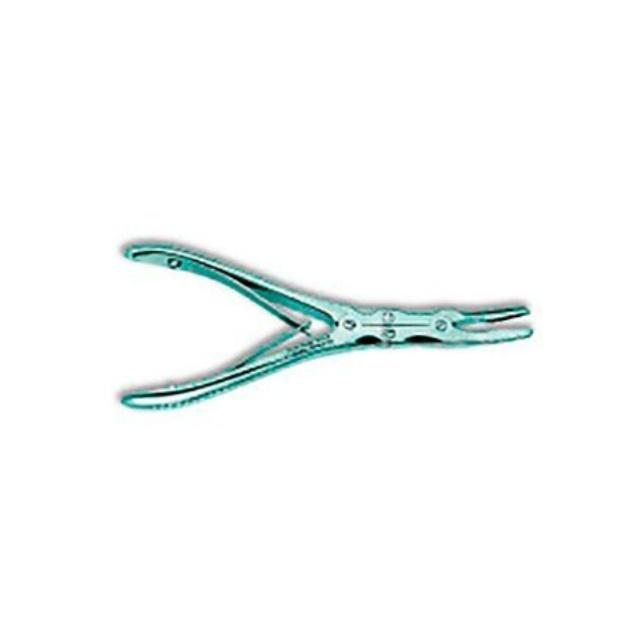gubia: (116, 239, 535, 413)
